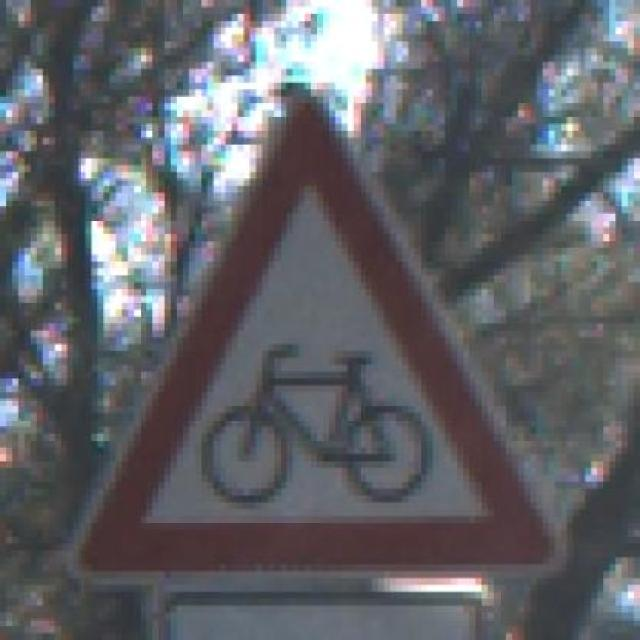CYCLE ROUTE AHEAD WARNING: (61, 56, 573, 578)
